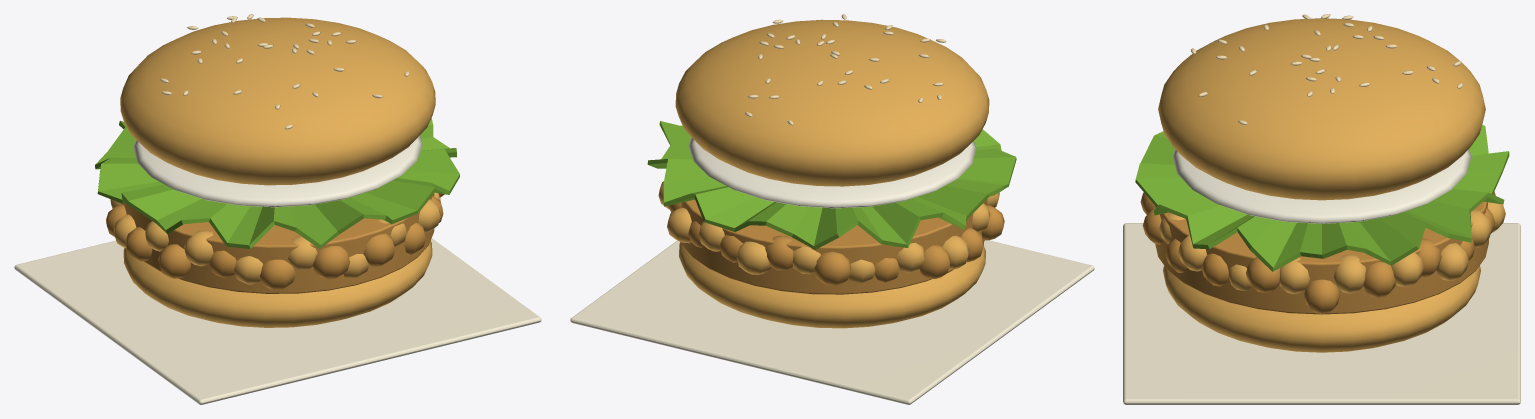
File: mcspicy-burger.glb
3 views of the same model, side by side, from view 1: azimuth 30°, elevation 25°; view 2: azimuth 150°, elevation 25°; view 3: azimuth 270°, elevation 25° (orthographic). The views are drawn at different scales.
Visible parts, largest first — view 1: bottom bun, burger paper, ruffled lettuce, chicken fillet core, mayonnaise, bun sesame seed; view 2: bottom bun, burger paper, ruffled lettuce, chicken fillet core, mayonnaise, bun sesame seed; view 3: bottom bun, burger paper, ruffled lettuce, chicken fillet core, mayonnaise, bun sesame seed.
Part boxes in pixels (box(x1,y1,x2,y2)): bottom bun: box(110, 17, 441, 327); burger paper: box(14, 238, 541, 404); ruffled lettuce: box(95, 118, 459, 248); chicken fillet core: box(106, 193, 444, 293); mayonnaise: box(133, 135, 422, 207); bun sesame seed: box(160, 14, 409, 129); bottom bun: box(658, 19, 999, 328); burger paper: box(570, 240, 1094, 404); ruffled lettuce: box(647, 121, 1016, 249); chicken fillet core: box(669, 199, 1004, 294); mayonnaise: box(688, 137, 976, 208); bun sesame seed: box(745, 14, 946, 125); bottom bun: box(1158, 18, 1505, 352); burger paper: box(1123, 223, 1520, 404); ruffled lettuce: box(1135, 125, 1509, 271); chicken fillet core: box(1140, 191, 1495, 314); mayonnaise: box(1172, 149, 1471, 223); bun sesame seed: box(1190, 14, 1463, 125).
Size of the model in its own units: 0.265 by 0.1851 by 0.25.
